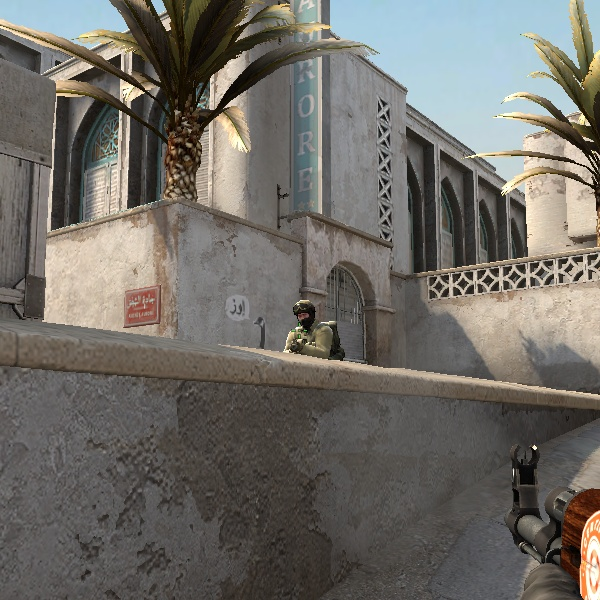ct_body: (270, 297, 344, 356)
ct_head: (289, 301, 319, 331)
